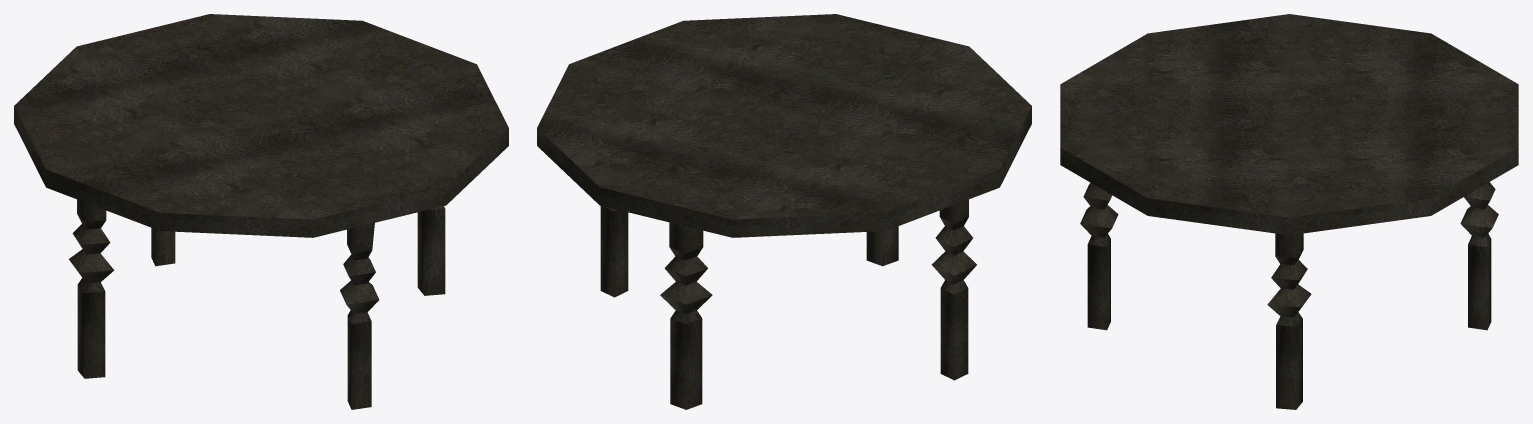
The model's file is frn_tato_table_small_s01_l1.fbx.
3 views of the same model, side by side, from view 1: azimuth 30°, elevation 25°; view 2: azimuth 150°, elevation 25°; view 3: azimuth 270°, elevation 25° (orthographic). The views are drawn at different scales.
Visible parts, largest first — view 1: mesh_node; view 2: mesh_node; view 3: mesh_node.
Part boxes in pixels (box(x1,y1,x2,y2)): mesh_node: box(14, 14, 508, 409); mesh_node: box(537, 14, 1031, 409); mesh_node: box(1060, 14, 1518, 409).
Bounding box in the file's own units: 1.3 × 0.6233 × 1.24.
1 material, 1 textured.
